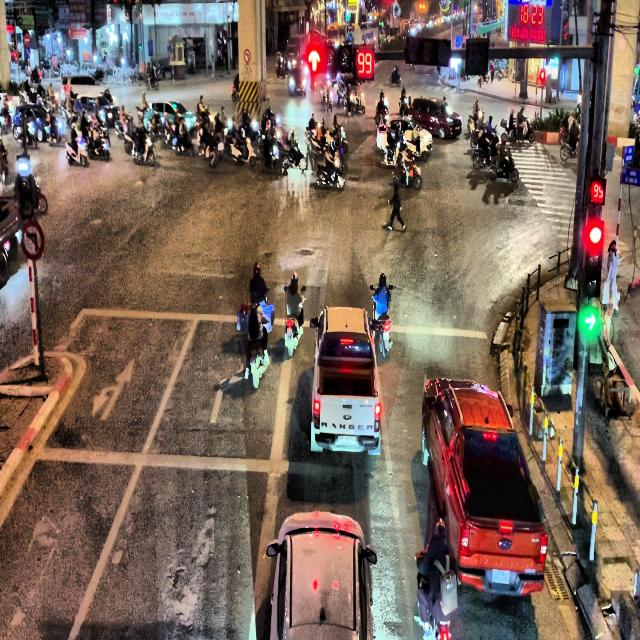lisence_plate: (490, 567, 511, 586), (337, 434, 357, 449)
